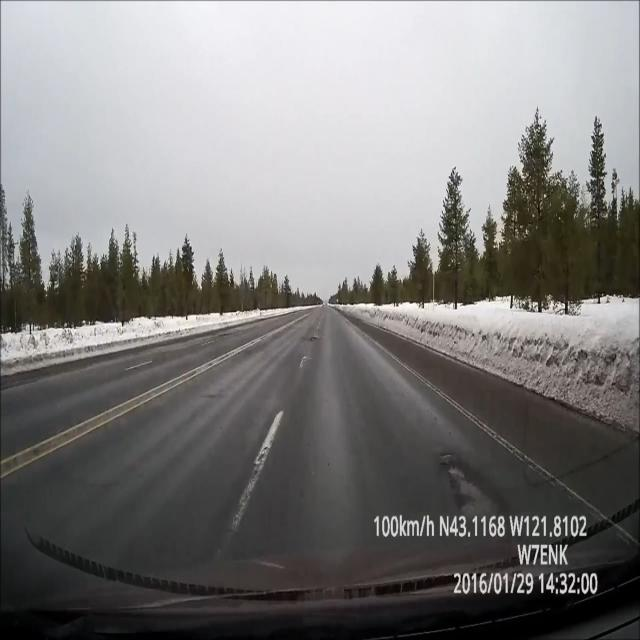Pothole: (432, 443, 504, 512)
